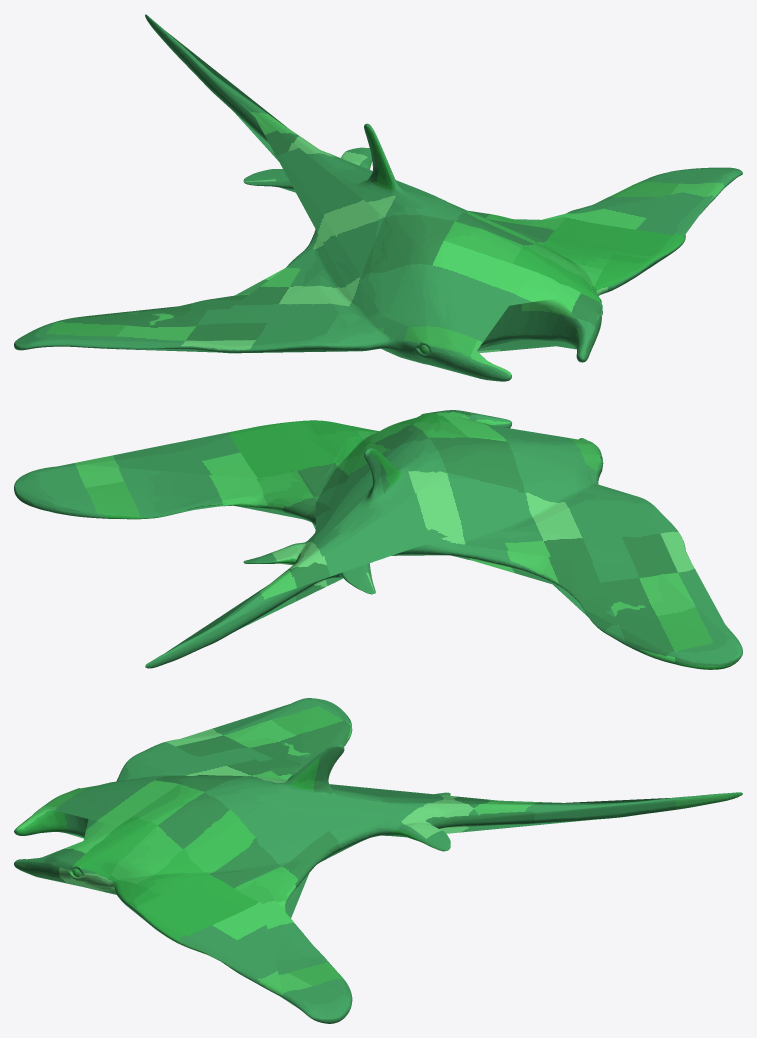
Rendered from Manta.obj.
The picture shows the model from 3 angles, top to bottom: view 1: azimuth 30°, elevation 25°; view 2: azimuth 150°, elevation 25°; view 3: azimuth 270°, elevation 25°; orthographic projection. The views are drawn at different scales.
Parts seen in each view (by area): view 1: Icosphere; view 2: Icosphere; view 3: Icosphere.
Part boxes in pixels (bbox=[...]): Icosphere: bbox=[14, 14, 742, 381]; Icosphere: bbox=[14, 410, 742, 669]; Icosphere: bbox=[14, 698, 742, 1023].
Bounding box in the file's own units: 5.85 × 1.1 × 5.63.
